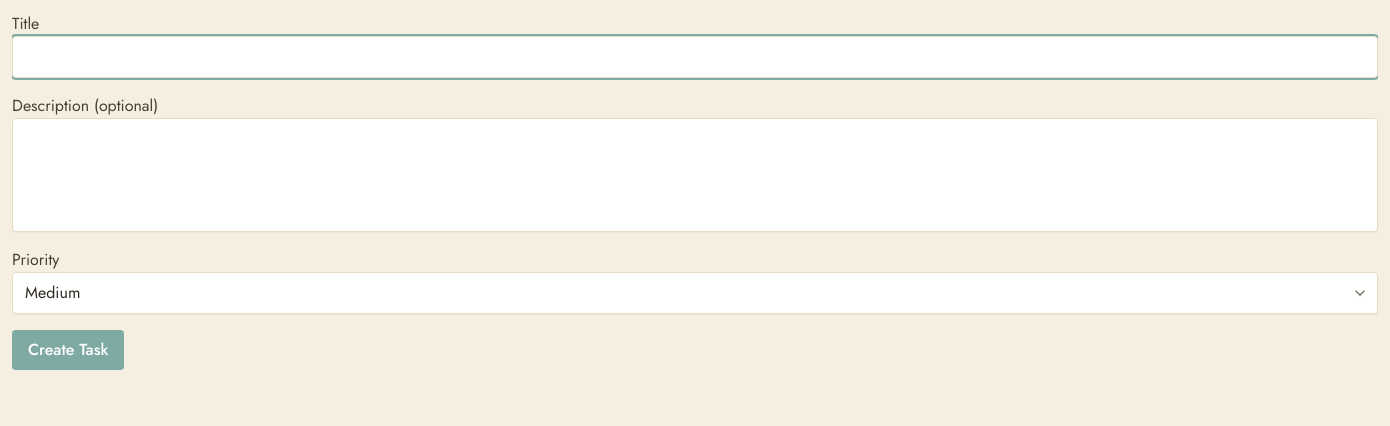
Scenario: TaskForm › renders the root error when the action returns { success: false }
In the field labelled "Title": [695, 57] box [12,36,1378,78], type "My new task"
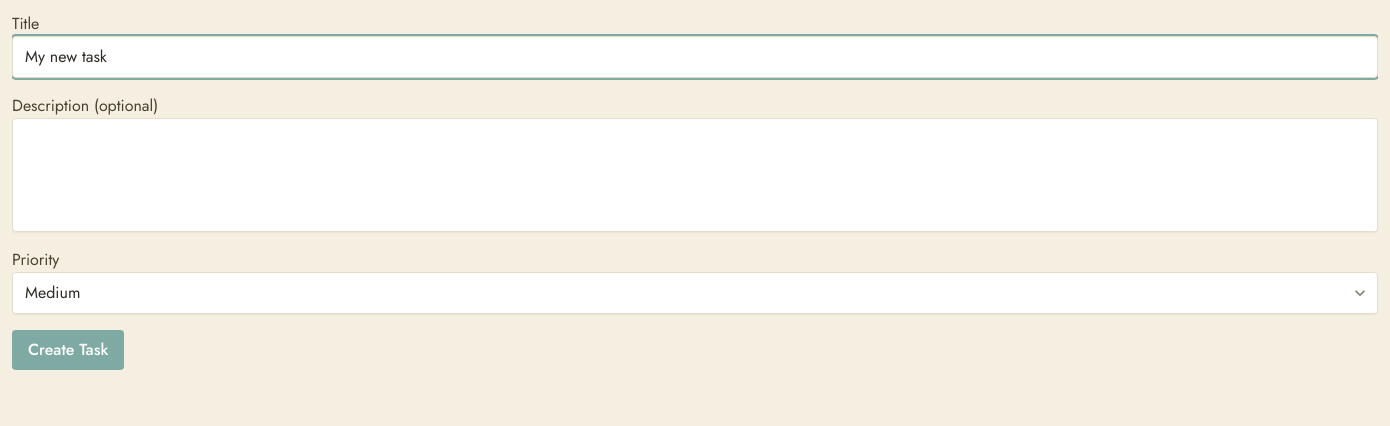
Click the button "Create Task": [68, 350] box [12,330,124,370]
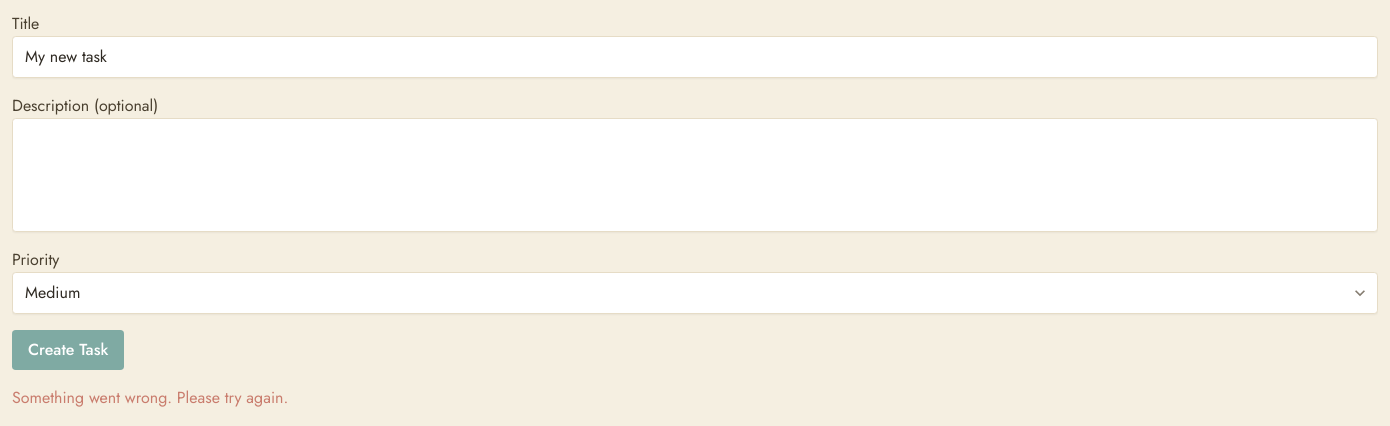
Expected: the text "Something went wrong. Please try again." is shown, [12,386,288,409]
